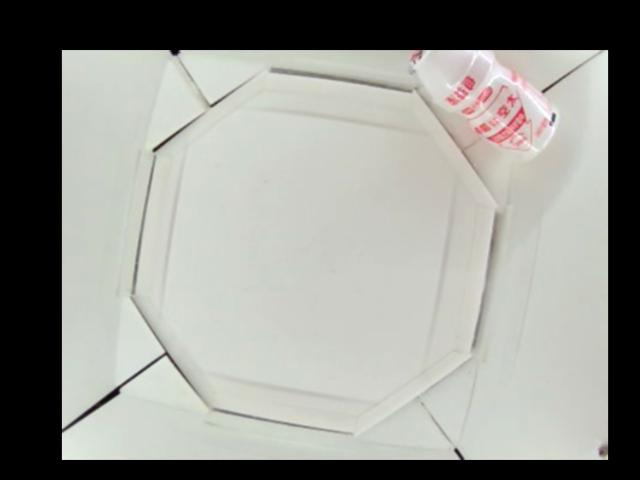Bottle: (408, 50, 563, 157)
